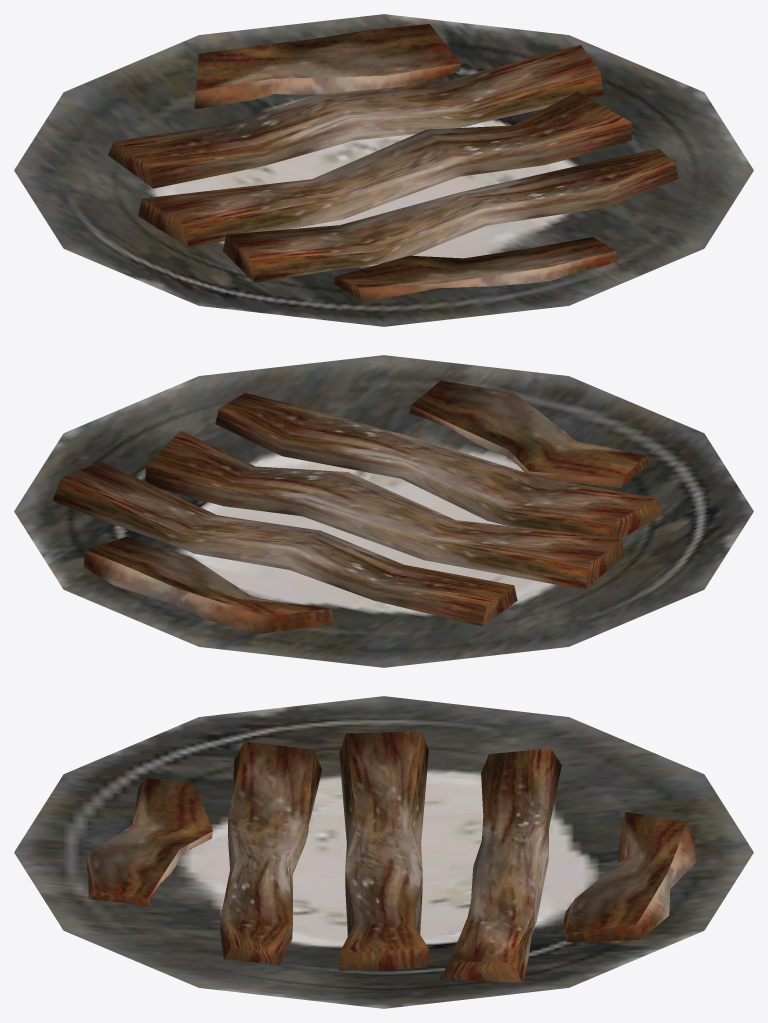
Rendered from edb_dish_terratta_l0.fbx.
3 renders of one model, top to bottom at view 1: azimuth 30°, elevation 25°; view 2: azimuth 150°, elevation 25°; view 3: azimuth 270°, elevation 25°, orthographic.
Visible parts, largest first — view 1: mesh_node; view 2: mesh_node; view 3: mesh_node.
Part boxes in pixels (x1,y1,x2,y2): mesh_node: [14, 14, 753, 326]; mesh_node: [14, 355, 753, 667]; mesh_node: [14, 696, 753, 1008].
Size of the model in its own units: 0.484 by 0.0472 by 0.484.
Materials: 1 (1 with a texture image).
